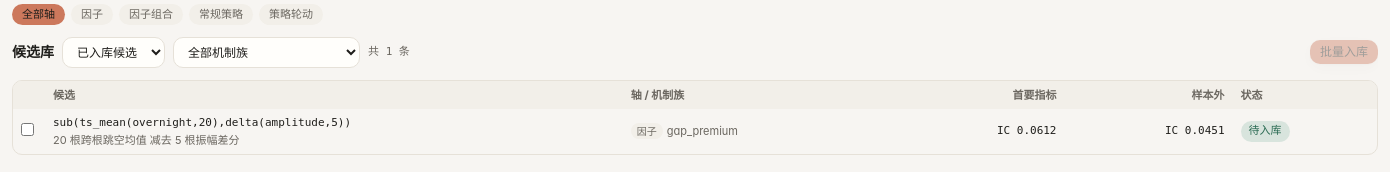
it: DiscoveryCandidates — 候选表 › 批量入库：未选中时禁用；选中 kept 行后可用
Expected: the button "批量入库" is disabled, x1=1310 y1=40 x2=1378 y2=64
Click the checkbox named "选择 ". click: {"x": 28, "y": 129}
box: x1=21 y1=123 x2=34 y2=136
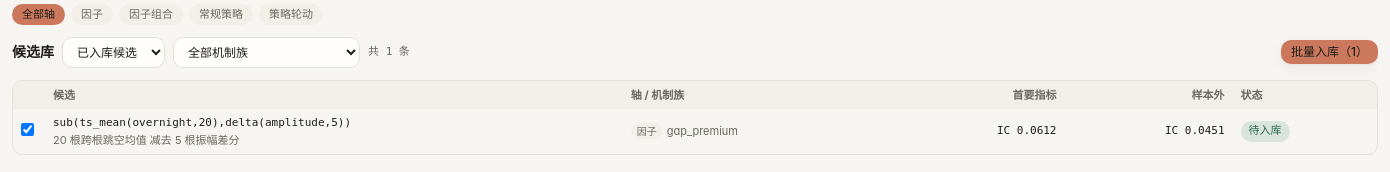
Result: the button "批量入库（1）" is enabled at x1=1281 y1=40 x2=1378 y2=64
